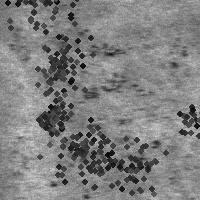rolled-in_scale: (34, 97, 138, 200), (17, 28, 97, 108), (86, 125, 170, 200), (43, 119, 164, 167), (56, 41, 141, 102), (0, 0, 91, 56), (168, 87, 200, 147), (30, 95, 70, 135)
